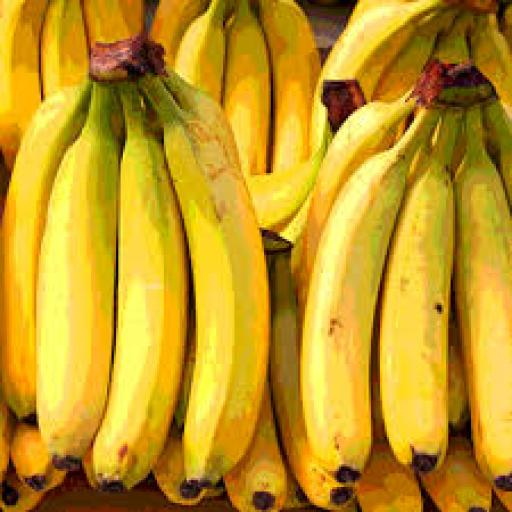banana: (139, 76, 268, 489), (301, 110, 439, 482), (94, 85, 188, 491), (37, 85, 120, 468), (0, 80, 91, 418), (381, 110, 461, 473), (299, 96, 414, 309), (269, 242, 354, 511), (456, 107, 511, 491), (371, 10, 457, 102), (246, 132, 327, 229), (224, 385, 286, 511), (162, 71, 241, 168), (421, 437, 491, 511), (355, 442, 423, 511), (153, 426, 207, 505), (469, 14, 511, 104), (12, 421, 65, 491), (483, 98, 511, 207), (278, 196, 311, 282), (0, 469, 65, 511), (173, 312, 195, 432), (449, 310, 468, 432), (433, 12, 475, 63), (371, 321, 386, 441), (0, 394, 15, 480), (283, 462, 309, 509), (0, 153, 11, 218), (82, 447, 97, 489), (492, 487, 511, 511), (501, 5, 511, 50), (205, 481, 225, 500)
